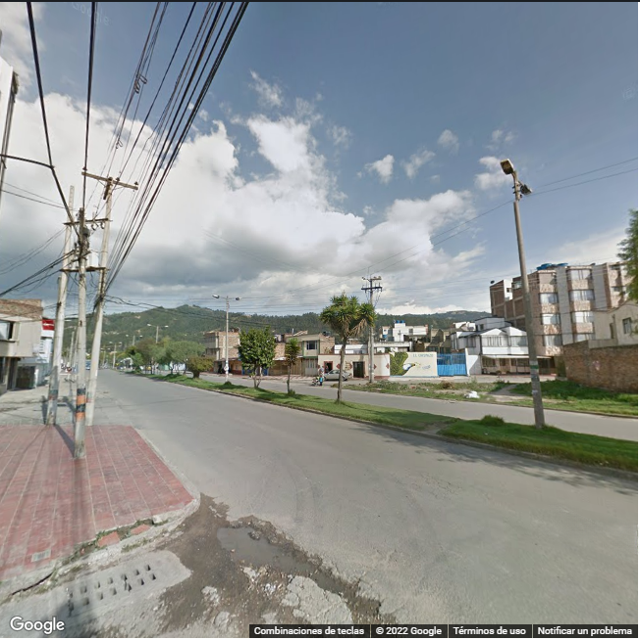D40: (214, 517, 345, 596)
